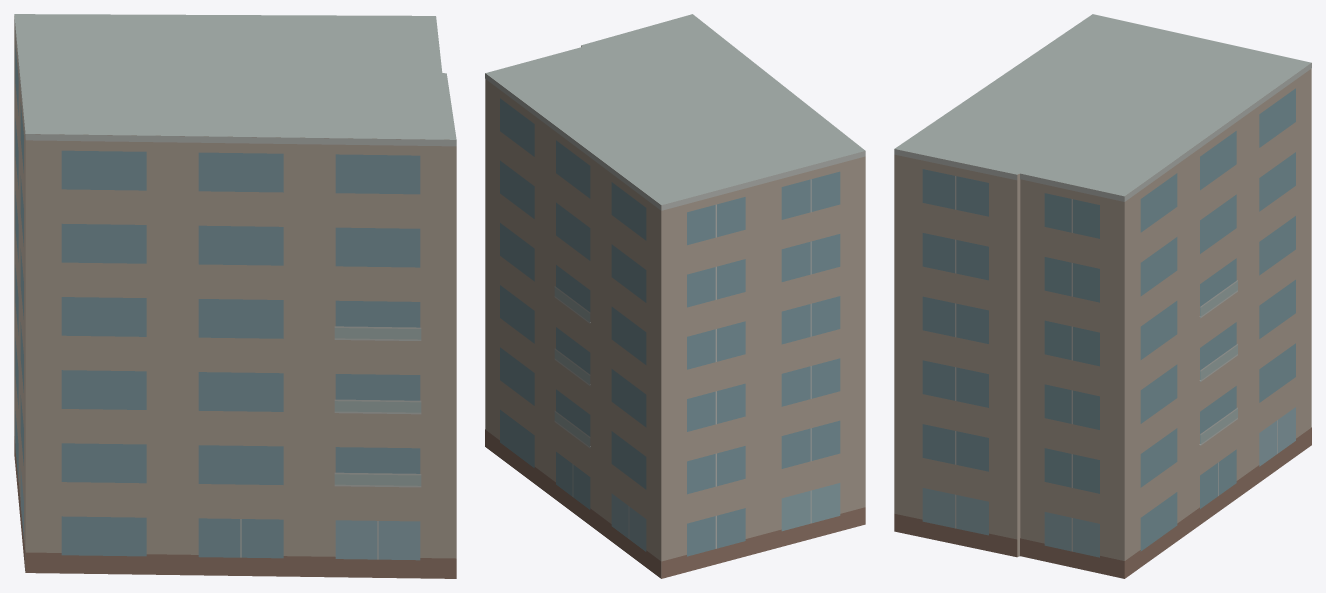
Rendered from survey-upis-32658304.glb.
3 views of the same model, side by side, from view 1: azimuth 30°, elevation 25°; view 2: azimuth 150°, elevation 25°; view 3: azimuth 270°, elevation 25° (orthographic). The views are drawn at different scales.
Visible parts, largest first — view 1: survey-upis-32658304.tmp; view 2: survey-upis-32658304.tmp; view 3: survey-upis-32658304.tmp.
Part boxes in pixels (bbox=[...]): survey-upis-32658304.tmp: bbox=[14, 14, 456, 578]; survey-upis-32658304.tmp: bbox=[485, 14, 865, 578]; survey-upis-32658304.tmp: bbox=[894, 14, 1311, 578].
Bounding box in the file's own units: 16.93 × 16.55 × 16.38.
